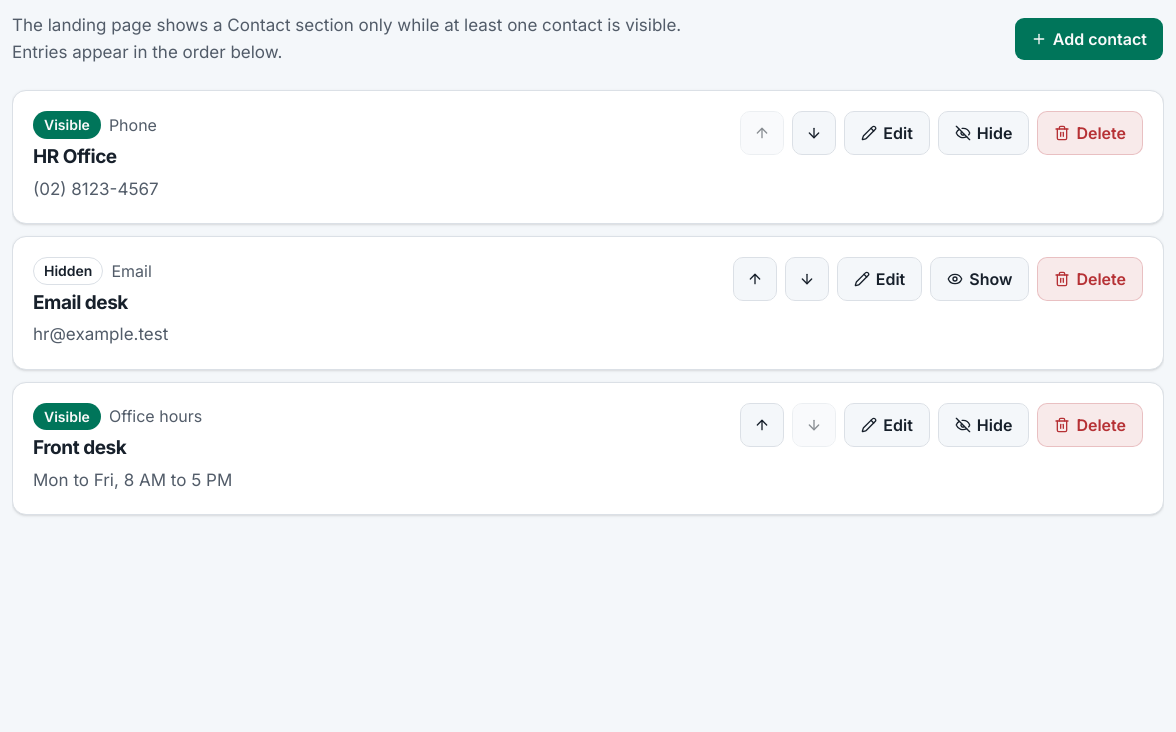
Test case: HrContactsPanel › explains a reorder refused because the list changed elsewhere
Click the button named "Move Front desk up": [762, 425] box [740,403,784,447]
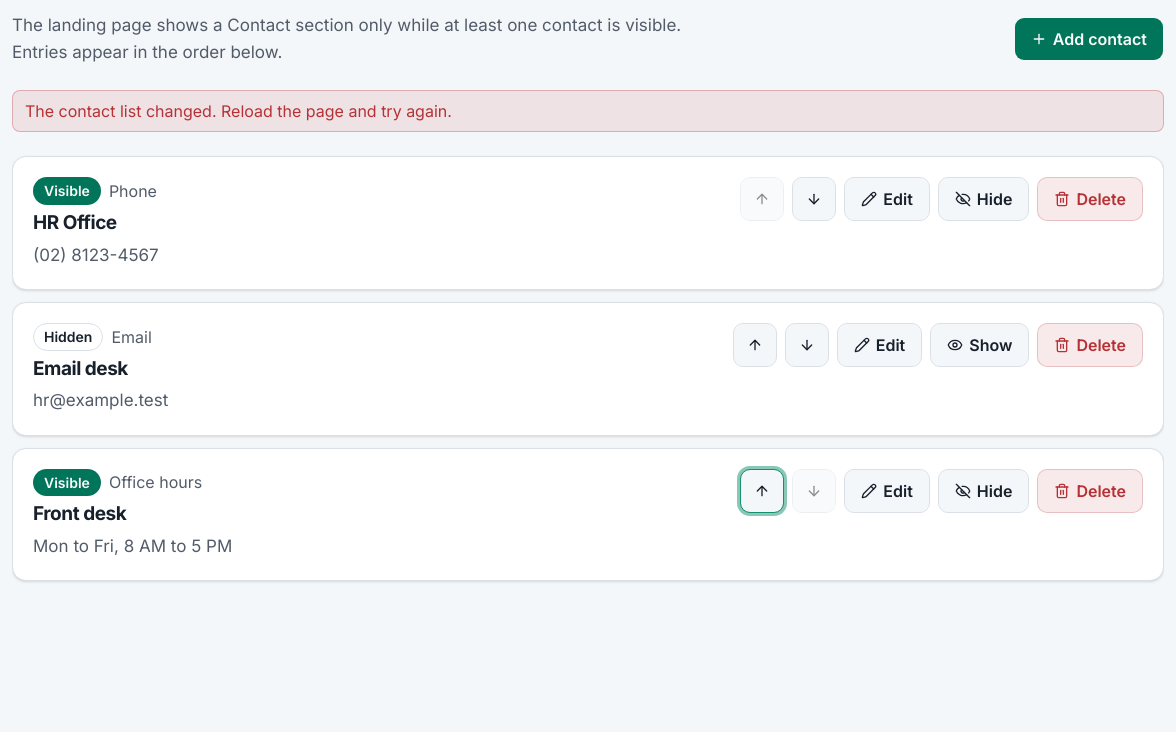
Check: the message reads "The contact list changed. Reload the page and try again.", box [25,101,452,121]
